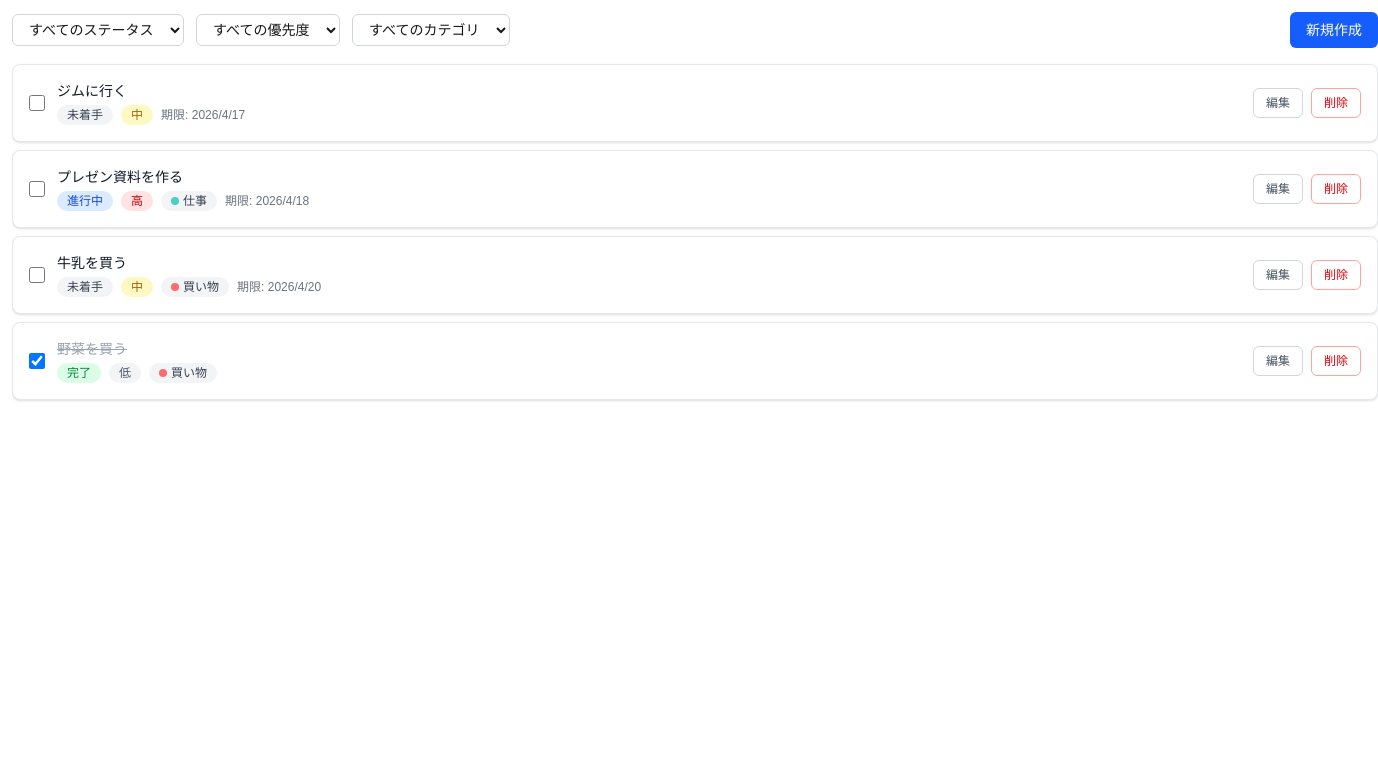
Test: TodoList › 削除ボタンと確認で削除できる
Check: the heading "牛乳を買う" is shown, box [57,253,127,273]
Click the button "削除" in the row of "2026/4/17" at {"x": 1336, "y": 103}, box [1311,88,1361,118]
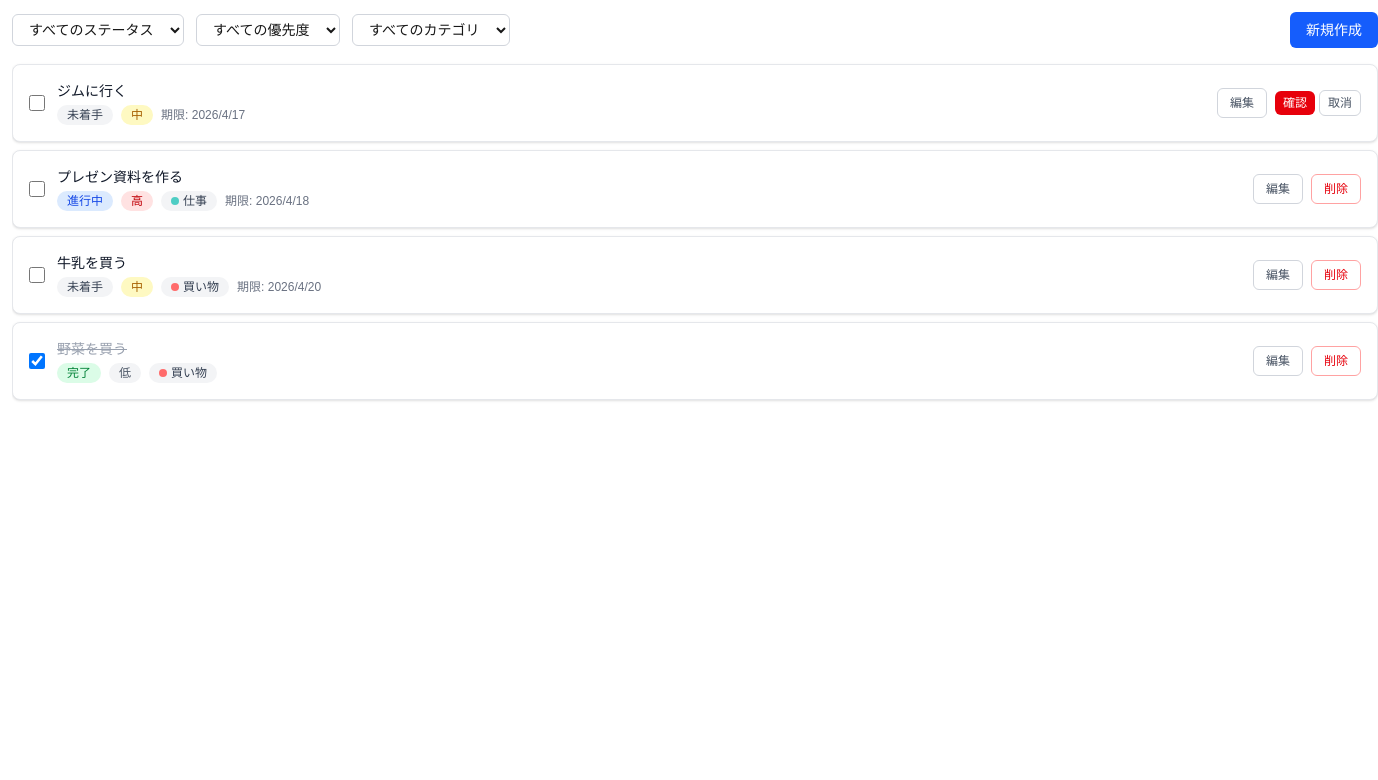
//  確認ダイアログ
Click the button "確認" at {"x": 1295, "y": 103}, box [1275,91,1315,115]
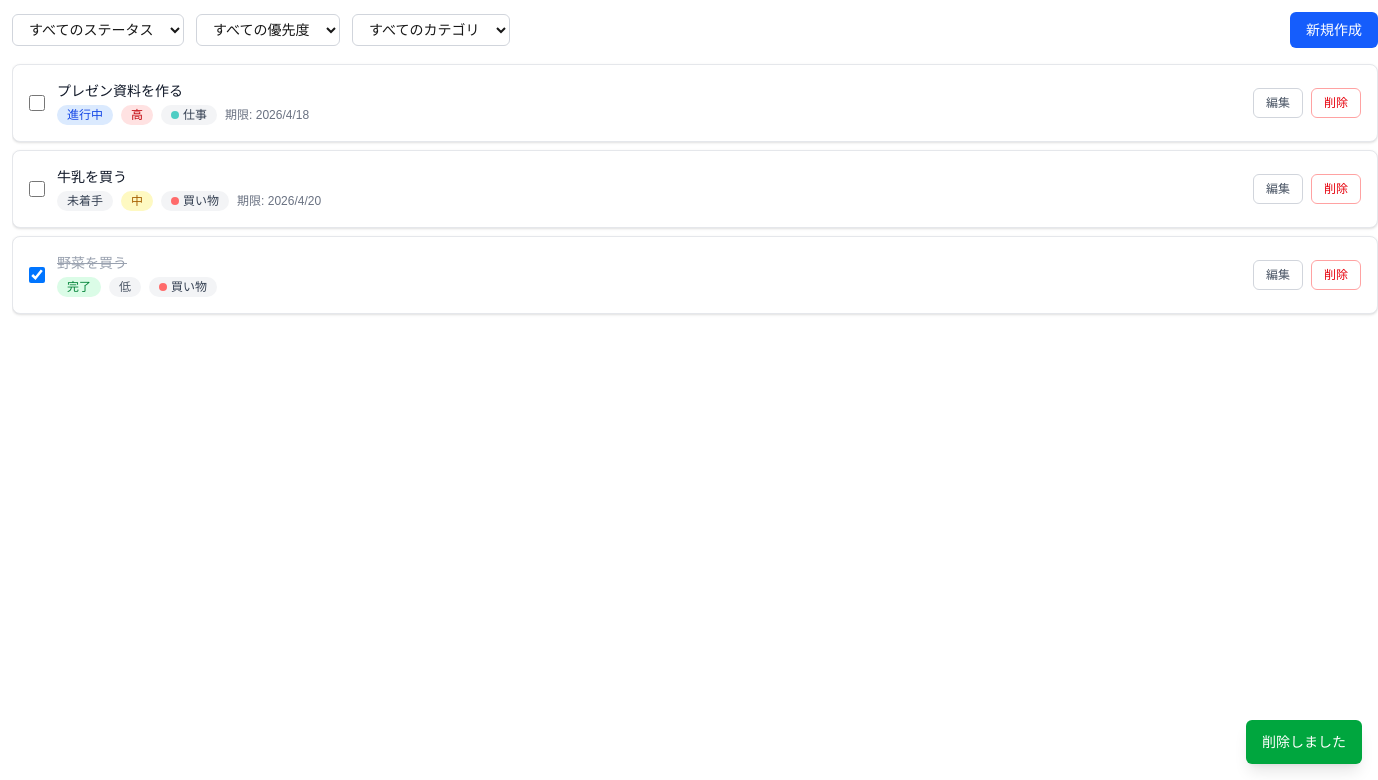
Check: the text "削除しました" is shown, box [1246,720,1362,764]
